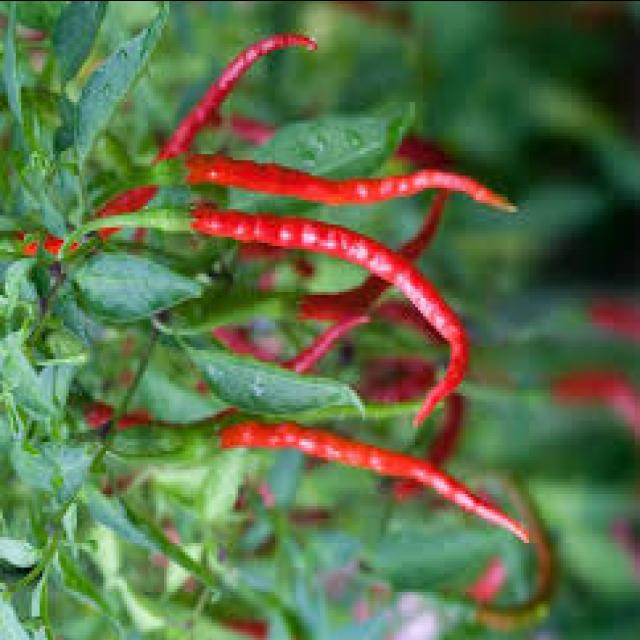sehat: (187, 332, 367, 428), (268, 89, 432, 175), (66, 242, 198, 320)
